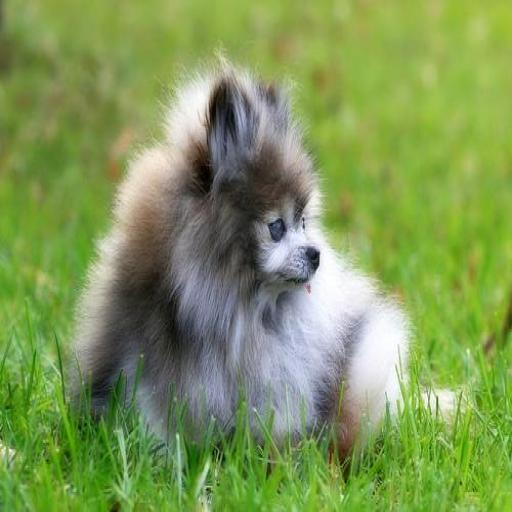dog_face: (204, 78, 321, 299)
